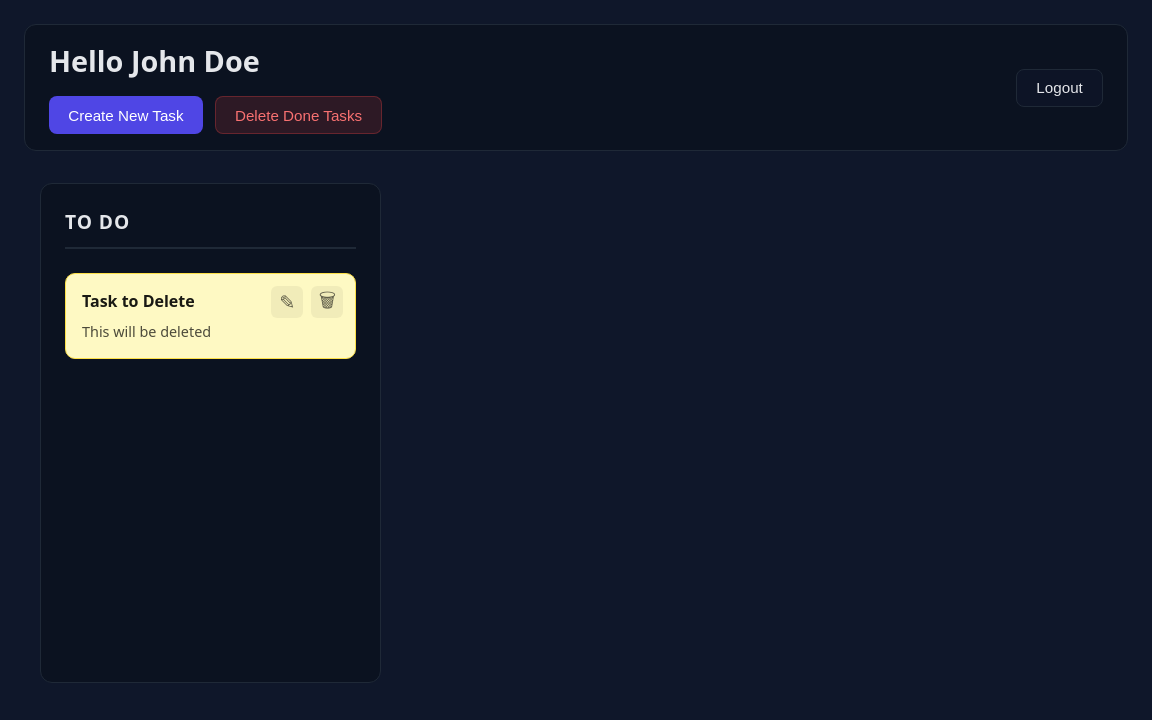
Test: BoardPage › deletes individual task when delete button is clicked and confirmed
Check: the button with test id "task-card-task-1" is shown, box [65, 273, 356, 359]
Note: Click delete button on task
Click the button with test id "task-delete-btn-task-1".
click(327, 302)  # box [311, 286, 343, 318]
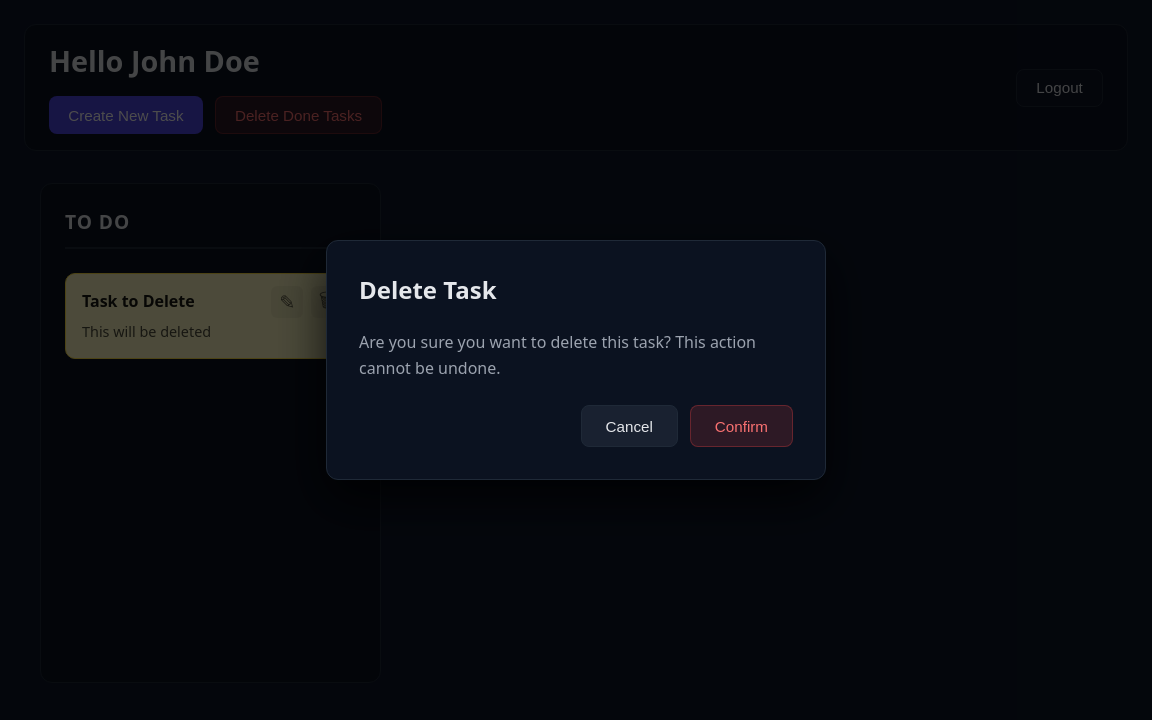
Check: the element with test id "confirmation-modal" is shown, box [326, 240, 826, 480]
Check: the heading with test id "confirmation-title" reads "Delete Task", box [359, 273, 497, 306]
Check: the text with test id "confirmation-message" shows "Are you sure you want to delete this task", box [359, 331, 756, 379]
Note: Confirm deletion
Click the button with test id "btn-confirm".
click(741, 426)  # box [690, 405, 793, 447]
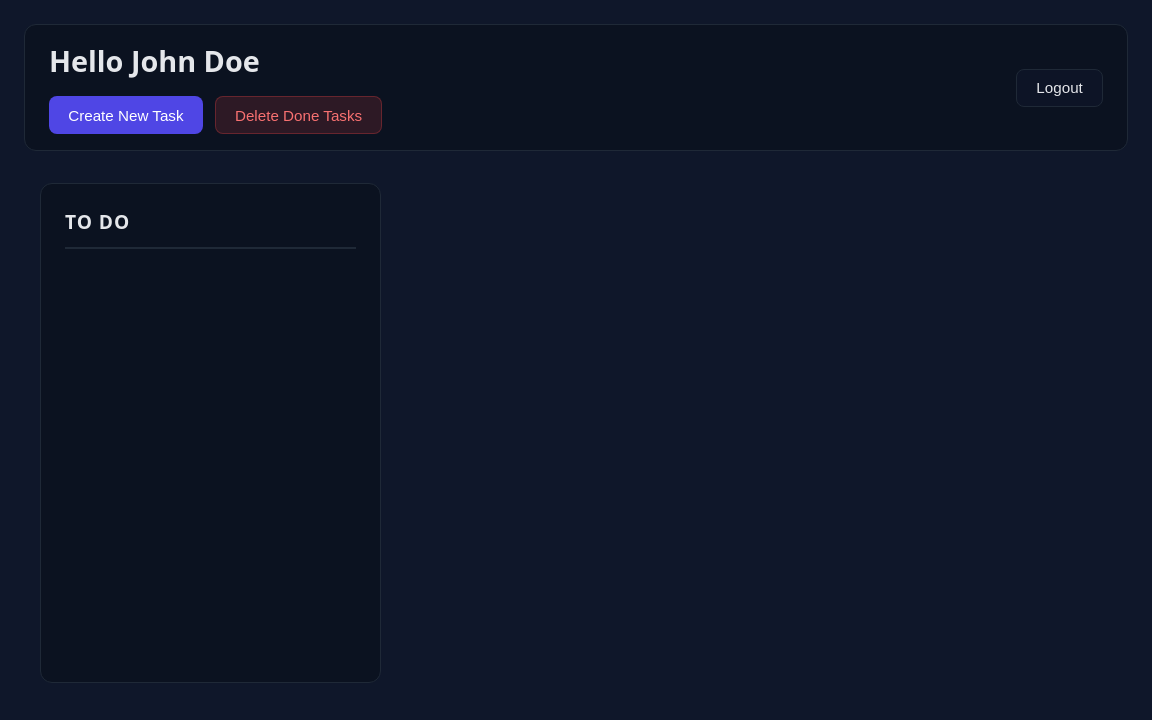
Check: the element with test id "confirmation-modal" is gone
Check: the button with test id "task-card-task-1" is gone
